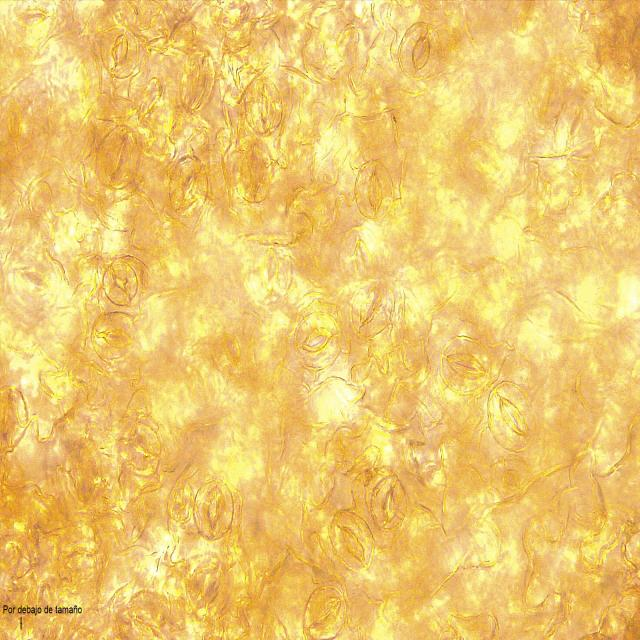Stomata: (486, 378, 536, 455), (5, 249, 61, 315), (93, 121, 143, 193), (438, 334, 494, 396), (249, 238, 294, 310), (230, 135, 275, 206), (292, 310, 342, 373), (88, 310, 145, 365), (206, 320, 256, 382), (328, 508, 376, 572), (192, 475, 235, 544), (350, 278, 396, 342), (396, 20, 444, 81), (300, 582, 349, 640), (167, 153, 210, 219), (0, 87, 38, 161), (353, 158, 396, 223), (116, 420, 162, 479), (243, 74, 285, 136), (98, 22, 141, 80), (368, 472, 409, 532), (0, 381, 31, 456), (6, 0, 59, 42), (100, 258, 139, 308)
